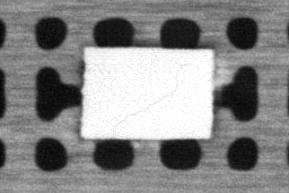DIE_CRACK: (110, 92, 173, 128)
